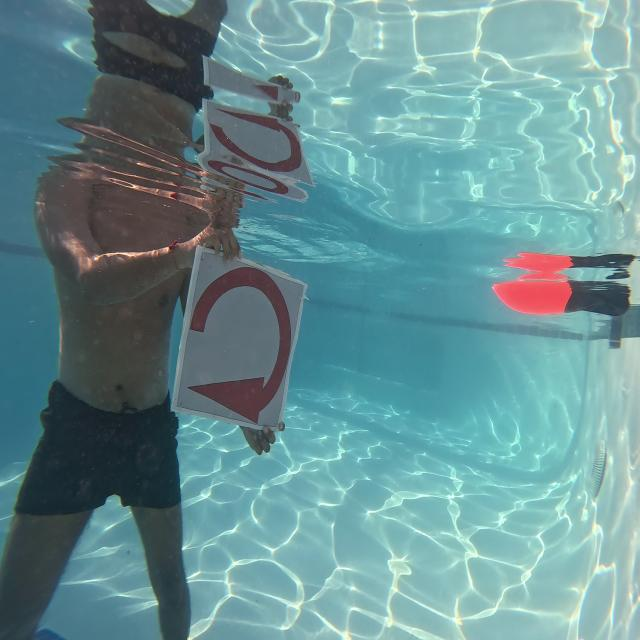red_side: (177, 243, 305, 430)
